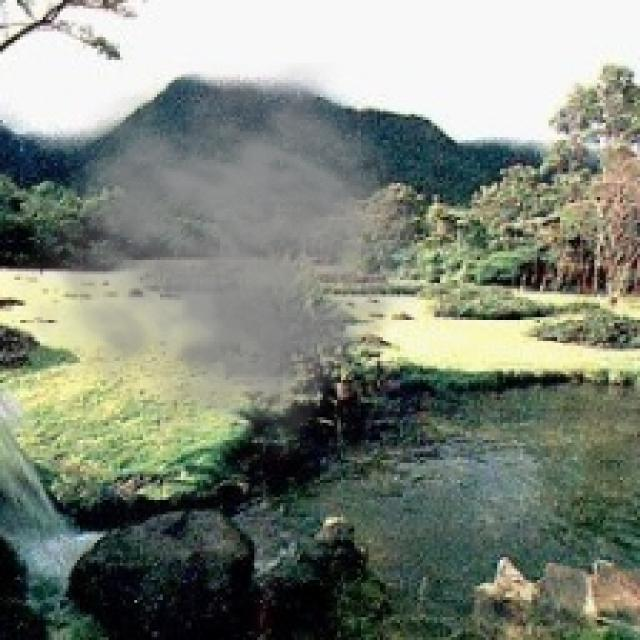Smoke: (9, 63, 428, 460)
